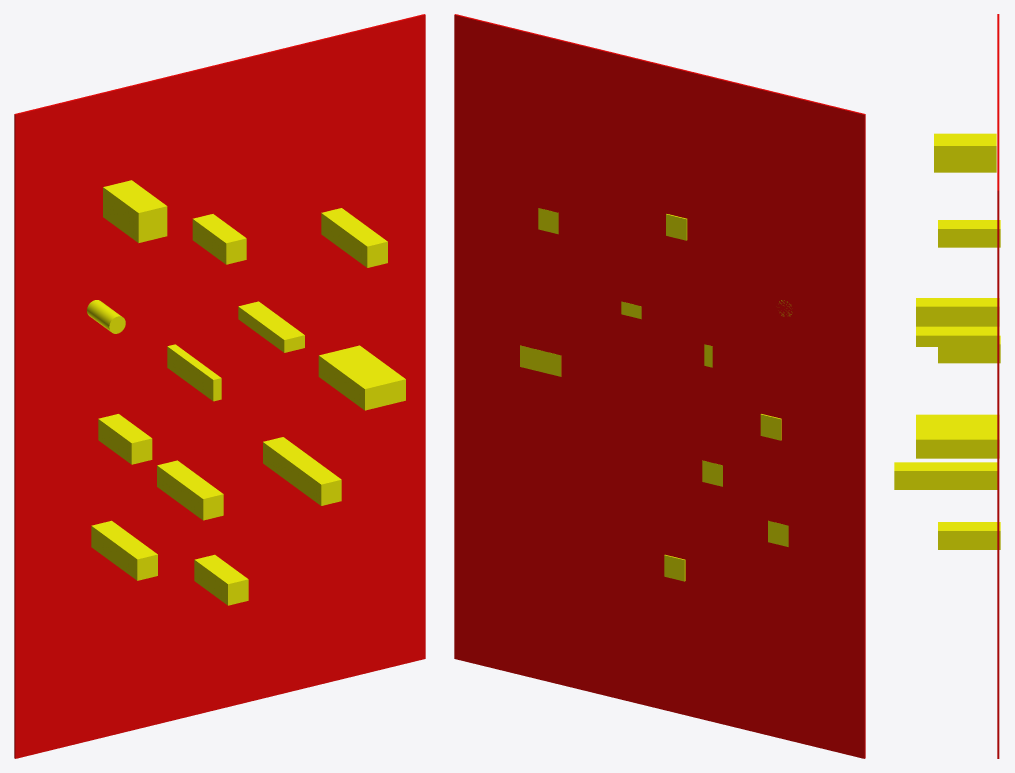
3 views of the same model, side by side, from view 1: azimuth 30°, elevation 25°; view 2: azimuth 150°, elevation 25°; view 3: azimuth 270°, elevation 25° (orthographic). The views are drawn at different scales.
Visible parts, largest first — view 1: node_0, node_4, node_6, node_8, node_5, node_3, node_11, node_9, node_10, node_12, node_2, node_1 (+1 smaller); view 2: node_0, node_4; view 3: node_4, node_8, node_6, node_11, node_0, node_2, node_9, node_12, node_10, node_3.
Boxes of the visible parts, x1,y1,x2,y2 form: node_0: [14, 14, 425, 758]; node_4: [318, 345, 405, 410]; node_6: [103, 180, 167, 242]; node_8: [263, 437, 341, 505]; node_5: [91, 520, 157, 580]; node_3: [157, 460, 223, 520]; node_11: [321, 208, 387, 267]; node_9: [194, 554, 248, 605]; node_10: [98, 414, 152, 464]; node_12: [192, 214, 246, 264]; node_2: [238, 301, 304, 352]; node_1: [167, 344, 221, 401]; node_0: [454, 14, 865, 758]; node_4: [520, 345, 561, 376]; node_4: [916, 422, 999, 458]; node_8: [894, 462, 997, 489]; node_6: [934, 133, 996, 172]; node_11: [916, 298, 999, 325]; node_0: [997, 14, 999, 758]; node_2: [916, 326, 999, 346]; node_9: [938, 522, 1000, 549]; node_12: [938, 220, 1000, 247]; node_10: [938, 335, 1000, 363]; node_3: [916, 414, 999, 421].
Bounding box in the file's own units: 10 × 15 × 2.55.
